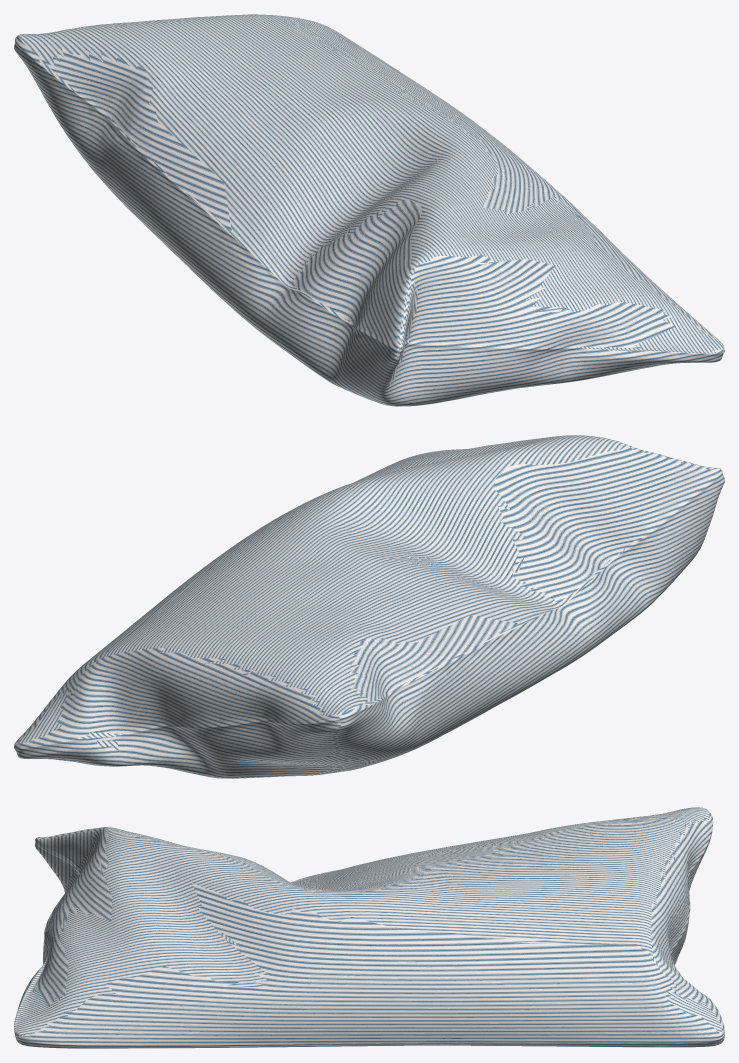
The model's file is pillow6.fbx.
3 renders of one model, top to bottom at view 1: azimuth 30°, elevation 25°; view 2: azimuth 150°, elevation 25°; view 3: azimuth 270°, elevation 25°, orthographic. The views are drawn at different scales.
Visible parts, largest first — view 1: Pillow1; view 2: Pillow1; view 3: Pillow1.
Part boxes in pixels (x1,y1,x2,y2): Pillow1: (14,14,724,406); Pillow1: (14,435,724,778); Pillow1: (14,807,724,1048).
Bounding box in the file's own units: 40.04 × 15.92 × 84.39.
